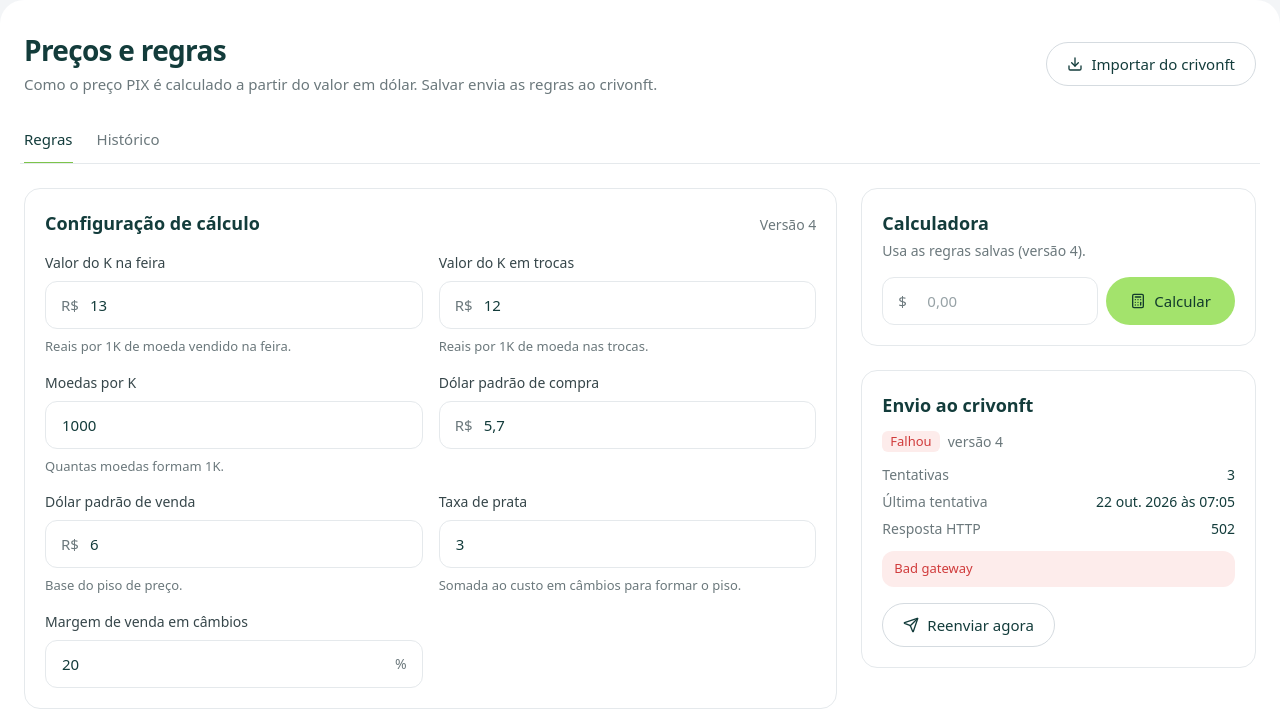
it: PricingView › salva enviando a versão carregada e as faixas em ordem
The width and height of the screenshot is (1280, 720).
Replace the text in the field labelled "Valor do K na feira" with "14,5": (234, 305) [45,281,423,329]
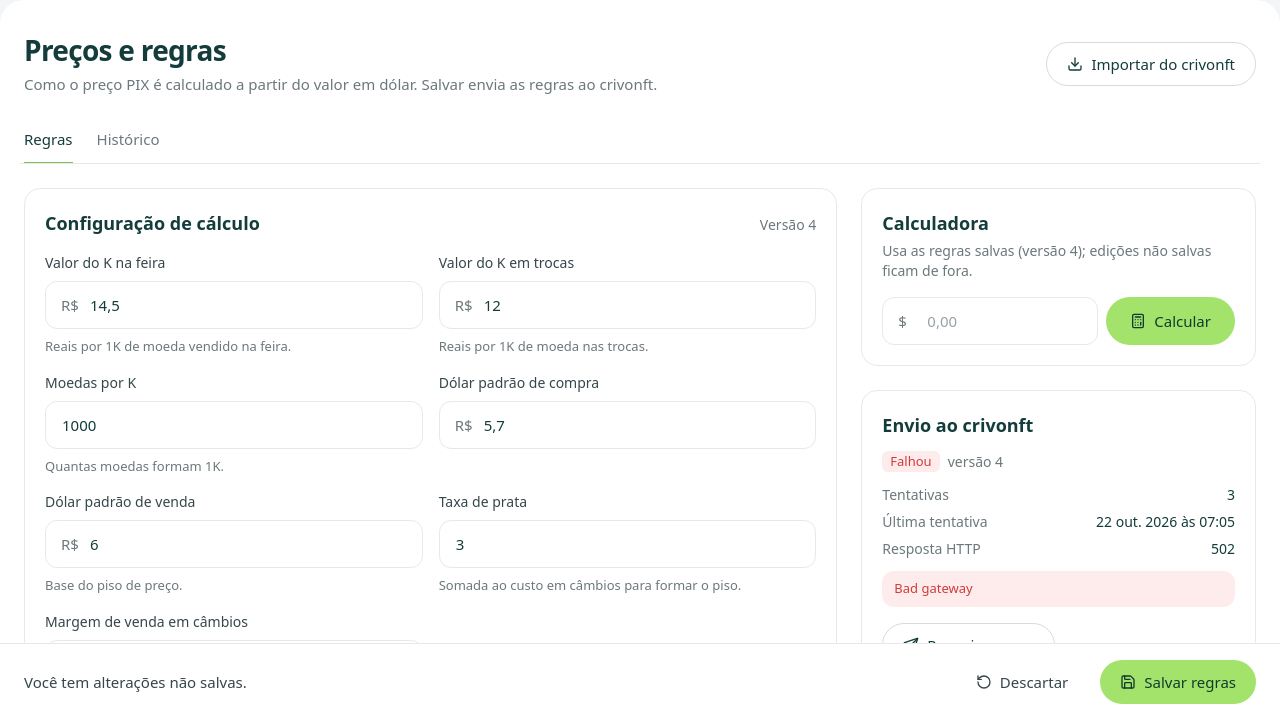
Click the button "Salvar regras": (1178, 682) [1100,660,1256,704]
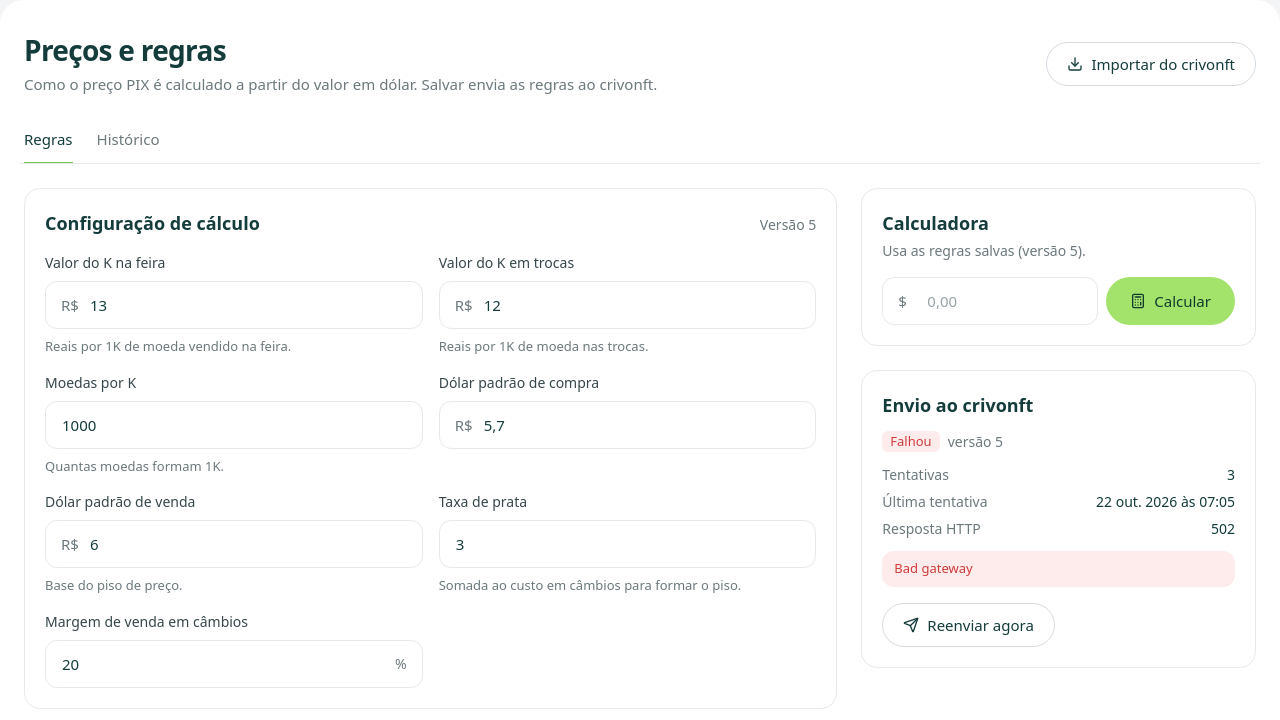
Now the text "Versão 5" is shown, box [760,215,816,235]
Now the text "Salvar regras" is gone
